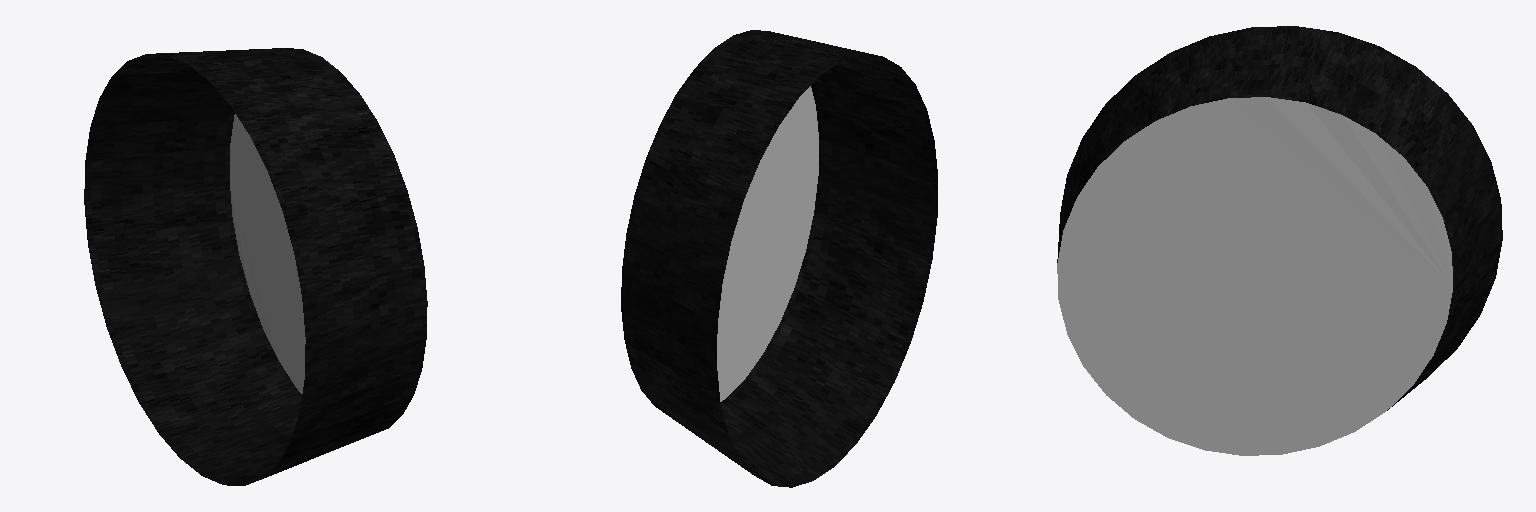
The picture shows the model from 3 angles: view 1: azimuth 30°, elevation 25°; view 2: azimuth 150°, elevation 25°; view 3: azimuth 270°, elevation 25°; orthographic projection.
Parts seen in each view (by area): view 1: Cube.004; view 2: Cube.004; view 3: Cube.004.
Part boxes in pixels (bbox=[...]): Cube.004: bbox=[84, 48, 427, 485]; Cube.004: bbox=[621, 30, 937, 487]; Cube.004: bbox=[1057, 26, 1502, 455].
Bounding box in the file's own units: 0.1637 × 0.52 × 0.5235.
Materials: 2 (1 with a texture image).